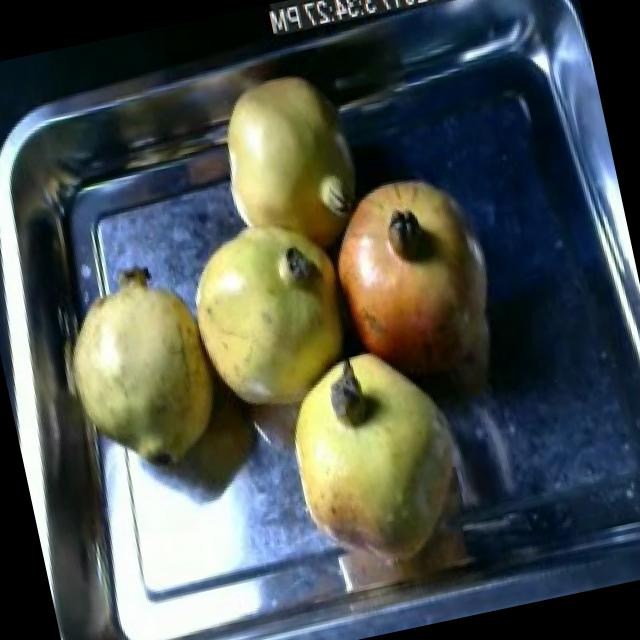fruit: (256, 322, 494, 604), (306, 152, 521, 407), (39, 248, 238, 494), (170, 196, 373, 432)
